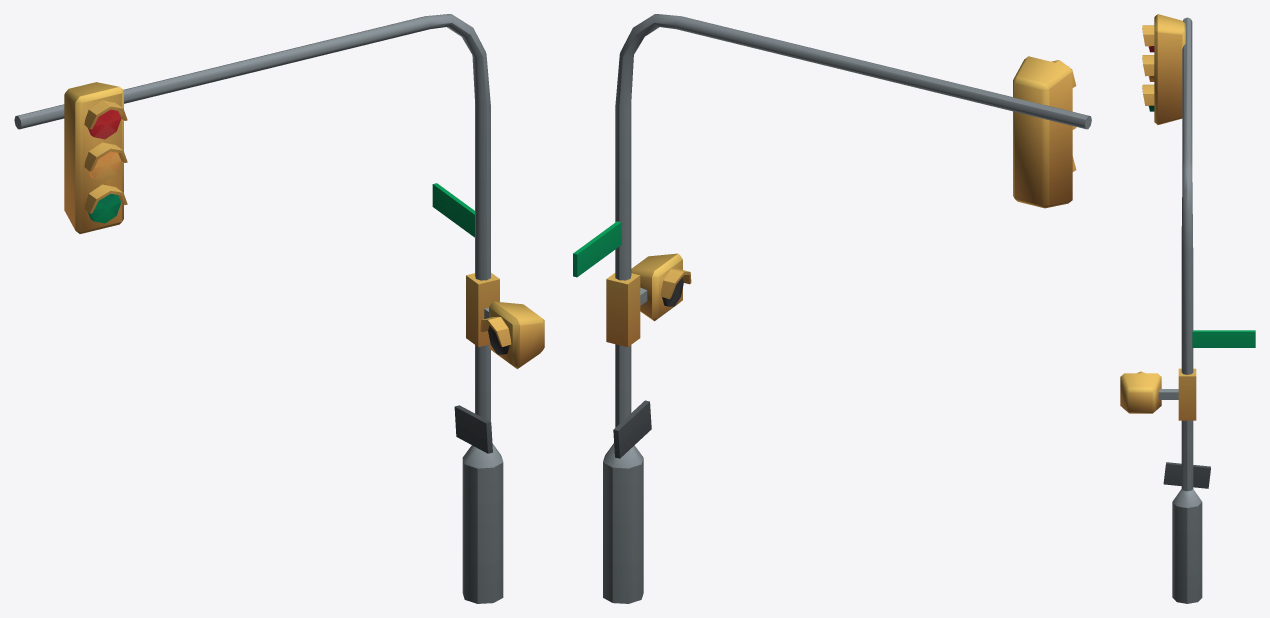
Rendered from traffic_light_free_model_b.glb.
3 renders of one model, left to right at view 1: azimuth 30°, elevation 25°; view 2: azimuth 150°, elevation 25°; view 3: azimuth 270°, elevation 25°, orthographic. The views are drawn at different scales.
Visible parts, largest first — view 1: trafficlight_C; view 2: trafficlight_C; view 3: trafficlight_C.
Boxes of the visible parts, x1=… form: trafficlight_C: x1=14, y1=14, x2=544, y2=603; trafficlight_C: x1=573, y1=14, x2=1091, y2=603; trafficlight_C: x1=1120, y1=14, x2=1255, y2=603.
Bounding box in the file's own units: 0.7977 × 0.9695 × 0.2716.
1 material, 1 textured.
